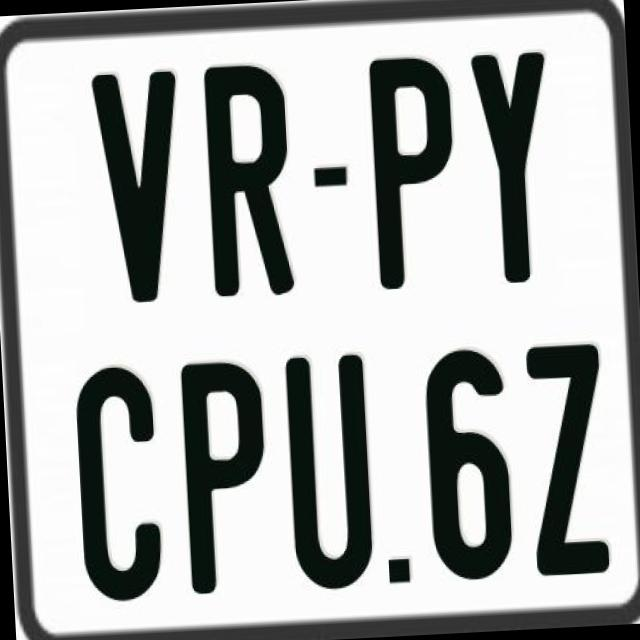6: (421, 346, 518, 585)
C: (74, 362, 166, 603)
P: (365, 54, 459, 298), (180, 360, 276, 596)
R: (200, 64, 296, 308)
U: (283, 353, 377, 598)
V: (90, 68, 192, 304)
Y: (470, 47, 559, 281)
Z: (521, 342, 611, 580)
